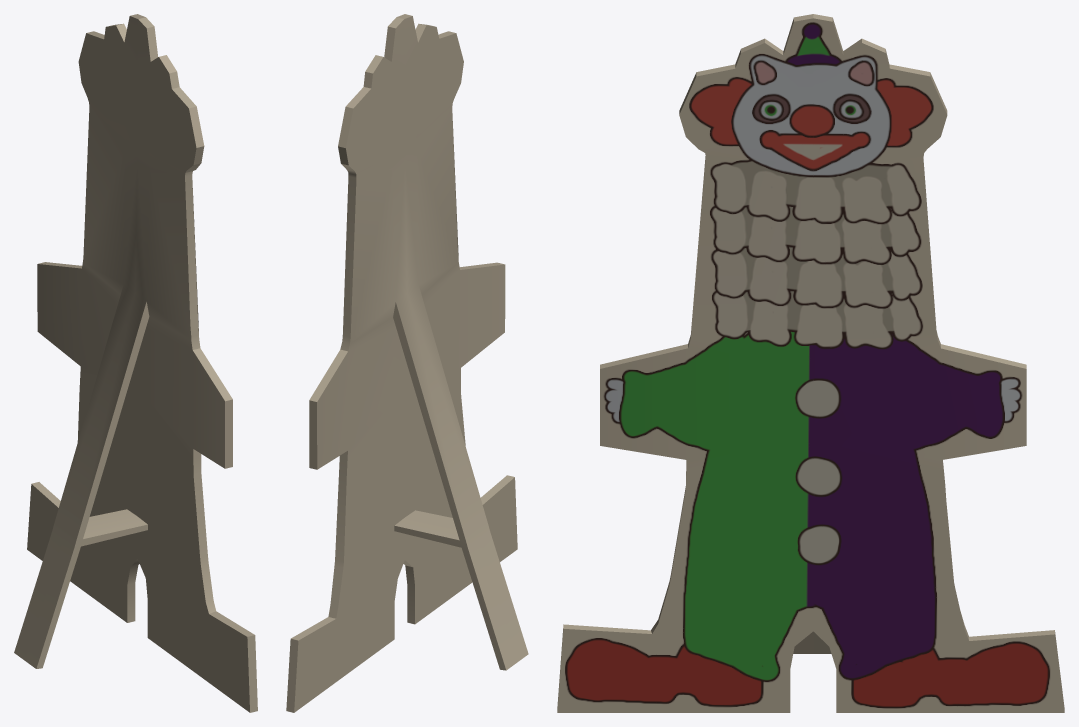
The model's file is cardboardclown_temporary.fbx.
3 renders of one model, left to right at view 1: azimuth 30°, elevation 25°; view 2: azimuth 150°, elevation 25°; view 3: azimuth 270°, elevation 25°, orthographic. The views are drawn at different scales.
Parts seen in each view (by area): view 1: cardboard cutout01; view 2: cardboard cutout01; view 3: cardboard cutout01.
Boxes of the visible parts, left/top/right/bottom form: cardboard cutout01: left=14, top=14, right=257, bottom=712; cardboard cutout01: left=286, top=14, right=528, bottom=712; cardboard cutout01: left=557, top=14, right=1064, bottom=712.
Bounding box in the file's own units: 47.65 × 232 × 152.
1 material, 1 textured.
